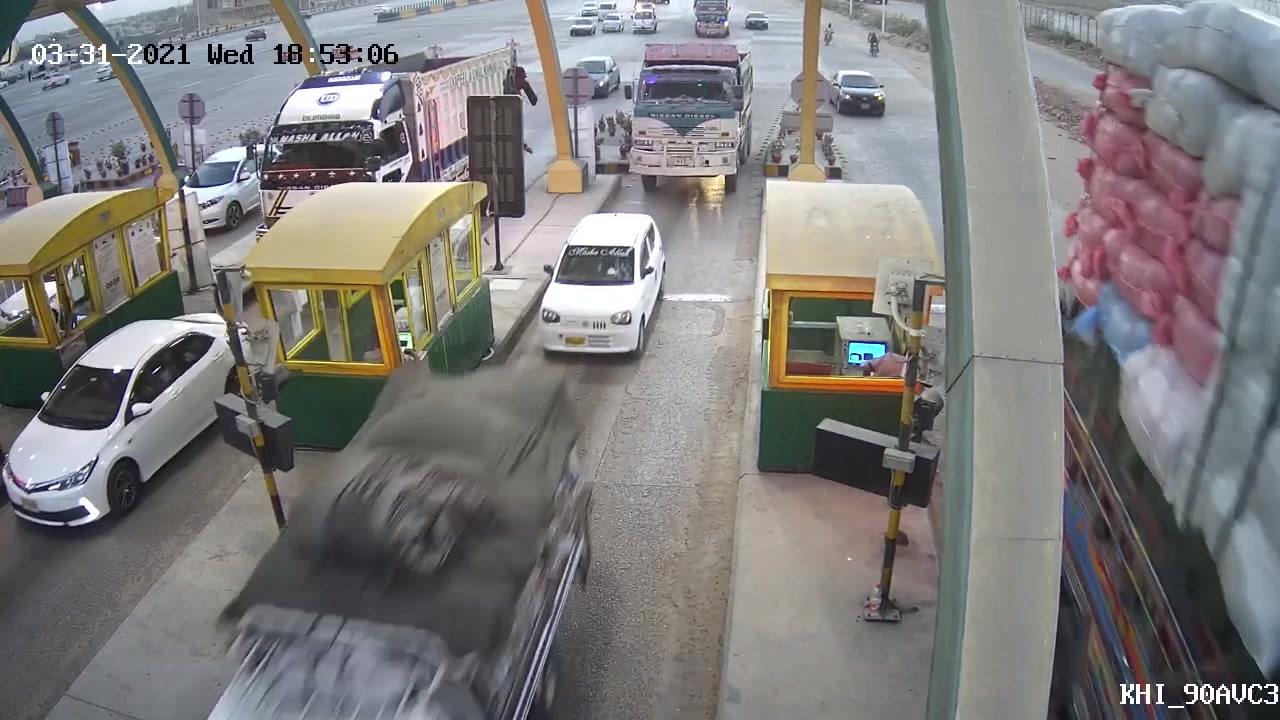F1: (524, 211, 677, 363)
F5: (622, 36, 758, 195)
